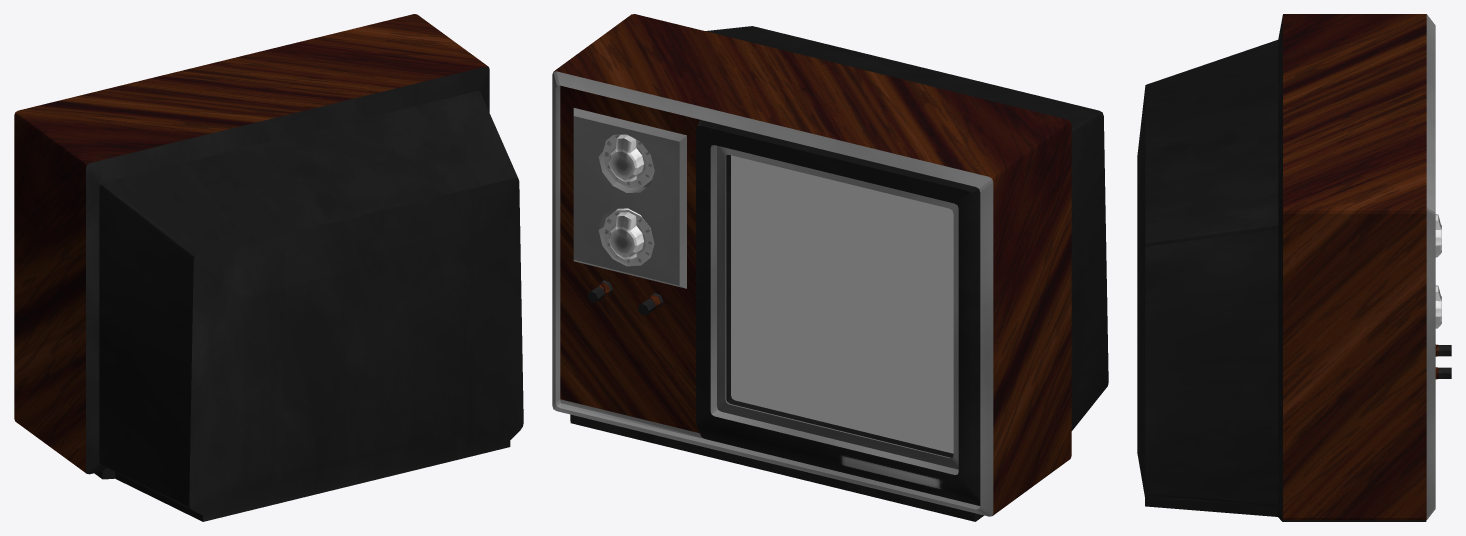
File: TVScreen.fbx
The picture shows the model from 3 angles, left to right: view 1: azimuth 30°, elevation 25°; view 2: azimuth 150°, elevation 25°; view 3: azimuth 270°, elevation 25°; orthographic projection. The views are drawn at different scales.
Visible parts, largest first — view 1: TV; view 2: TV, Canvas, Knob2, Knob1; view 3: TV.
Boxes of the visible parts, box(x1,y1,x2,y2) form: TV: box(14, 14, 523, 521); TV: box(552, 14, 1108, 521); Canvas: box(731, 155, 953, 453); Knob2: box(602, 208, 654, 265); Knob1: box(602, 134, 654, 187); TV: box(1137, 14, 1435, 521).
Size of the model in its own units: 118 by 89.23 by 79.41.
Materials: 2 (2 with a texture image).
